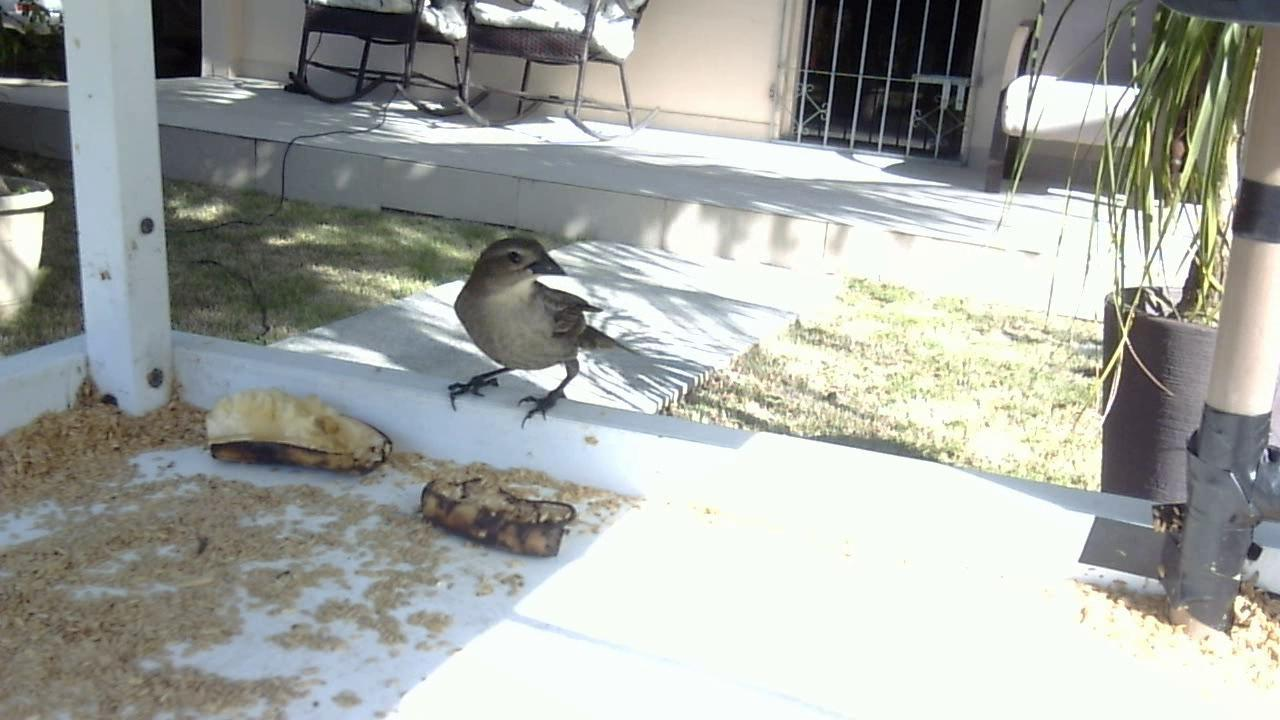chupim: (433, 225, 677, 439)
